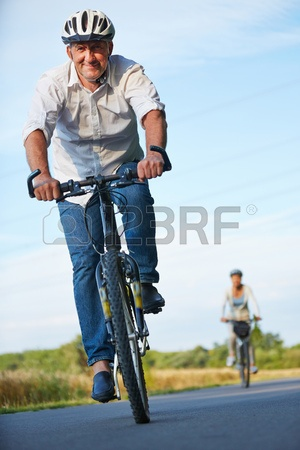helmet: (60, 8, 120, 83)
